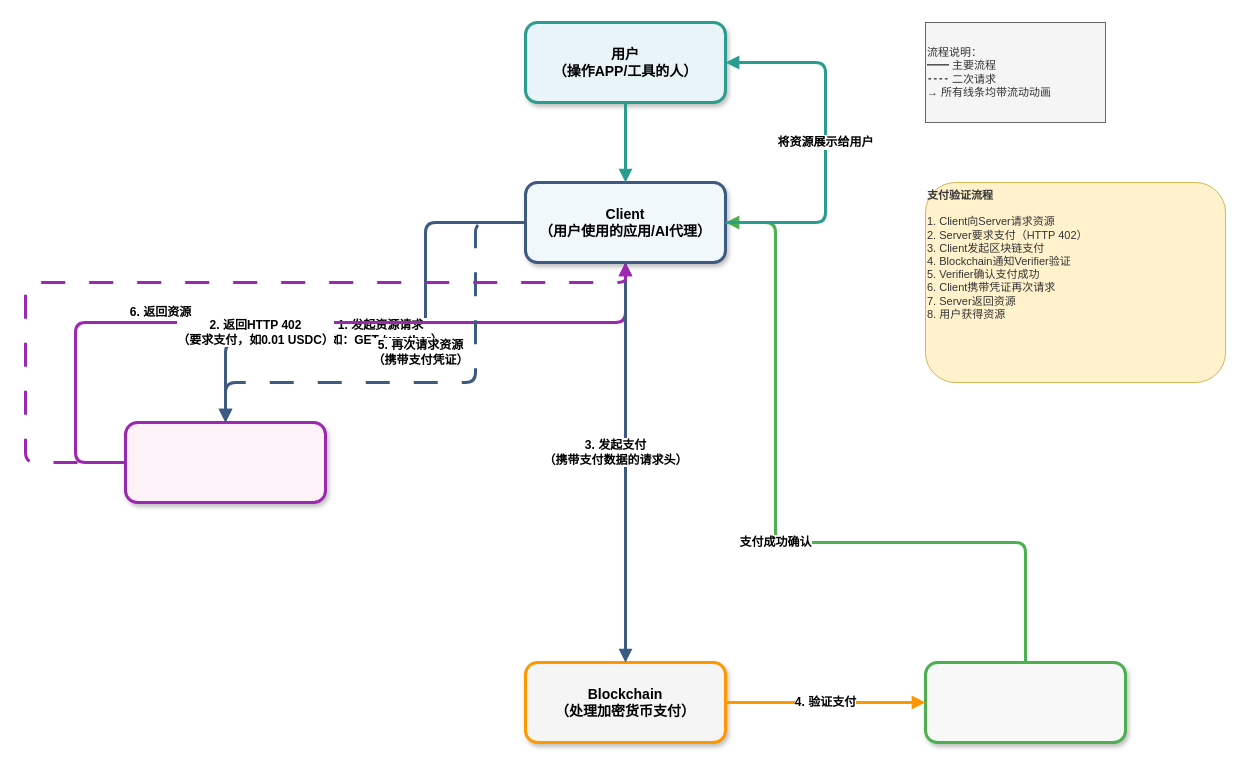
Image size: 1243x768. Some labels were removed from this diagram. The shapes that lost their labels are listed below. From the top down, each one's centre as x and y in pixels, then its label:
At (x=226, y=463): "Server （提供数据的网站）".
At (x=1026, y=703): "Verifier/Facilitator （支付校验方）".
